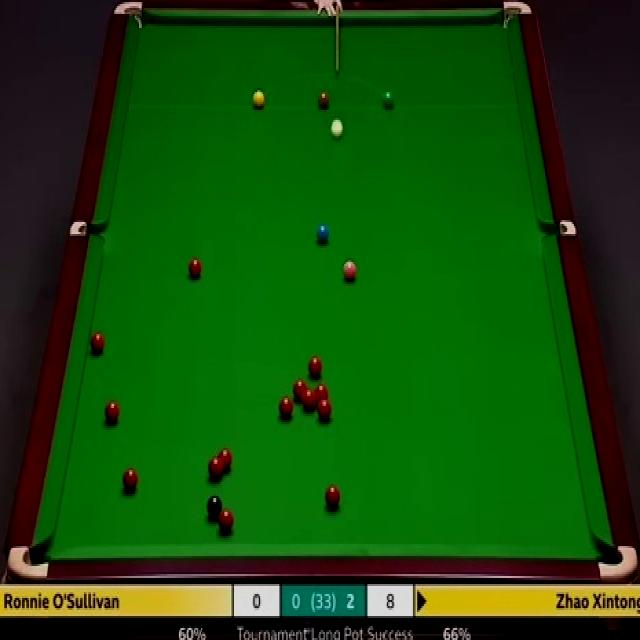black-ball: (207, 494, 224, 518)
blue-ball: (316, 222, 330, 247)
brown-ball: (317, 90, 330, 109)
green-ball: (381, 90, 394, 109)
pink-ball: (342, 262, 358, 284)
red-ball: (324, 481, 342, 512), (88, 331, 107, 358), (119, 467, 138, 492), (102, 398, 119, 423), (306, 356, 325, 378), (292, 376, 308, 402), (314, 384, 330, 408), (208, 456, 224, 480), (219, 449, 235, 471), (220, 509, 233, 535), (278, 394, 292, 418), (301, 390, 317, 410), (318, 398, 331, 419), (188, 260, 202, 278)
white-ball: (330, 119, 345, 139)
yellow-ball: (252, 90, 265, 109)
